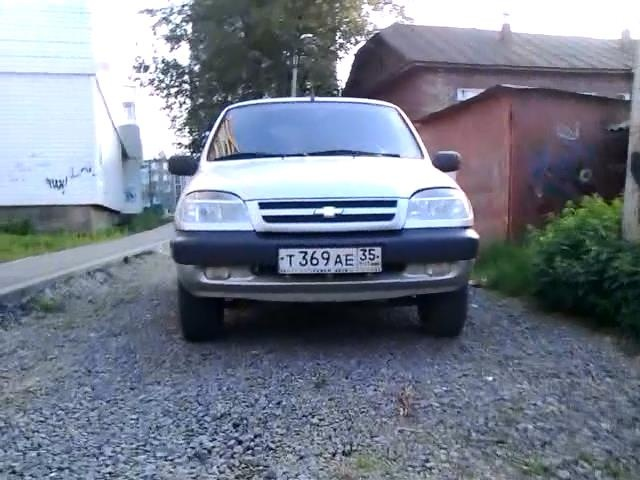car license plate: (276, 246, 384, 276)
